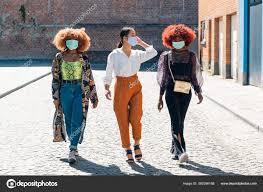with-mask: (50, 24, 93, 56), (164, 22, 191, 53), (118, 26, 141, 50)
